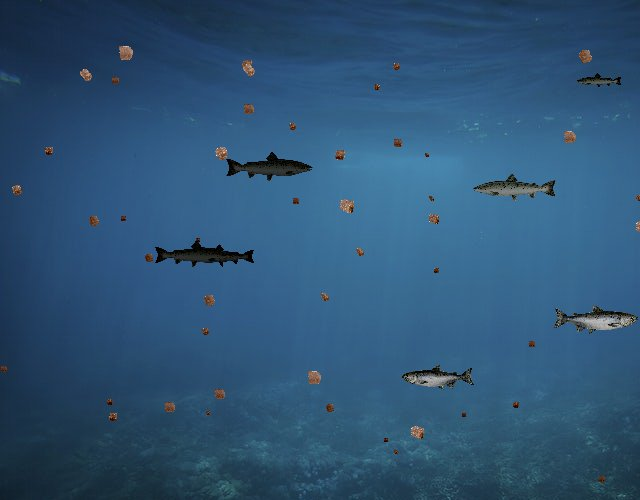Fish: (225, 150, 315, 183), (472, 172, 558, 203), (552, 304, 638, 335), (154, 240, 235, 269), (403, 365, 476, 391), (189, 244, 257, 268), (576, 73, 623, 90)
Pellet: (110, 38, 140, 68), (5, 179, 28, 201), (235, 54, 258, 76), (350, 242, 369, 261), (388, 134, 406, 152), (508, 398, 522, 412), (430, 265, 443, 278), (117, 213, 129, 225), (202, 408, 212, 418)
